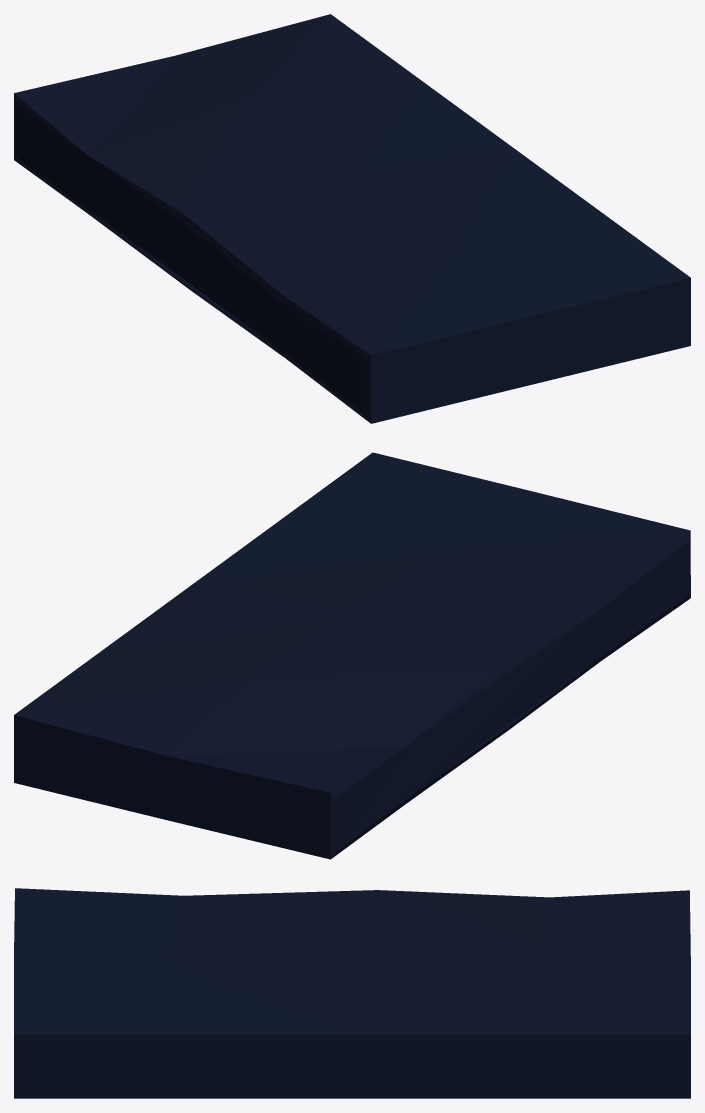
The model's file is obstacle_trapdoor_right.FBX.
3 renders of one model, top to bottom at view 1: azimuth 30°, elevation 25°; view 2: azimuth 150°, elevation 25°; view 3: azimuth 270°, elevation 25°, orthographic. The views are drawn at different scales.
Visible parts, largest first — view 1: trapdoor_right; view 2: trapdoor_right; view 3: trapdoor_right.
Boxes of the visible parts, x1=… form: trapdoor_right: x1=14, y1=14, x2=690, y2=423; trapdoor_right: x1=14, y1=452, x2=690, y2=859; trapdoor_right: x1=14, y1=888, x2=690, y2=1098.
Bounding box in the file's own units: 4.13 × 0.9891 × 8.
